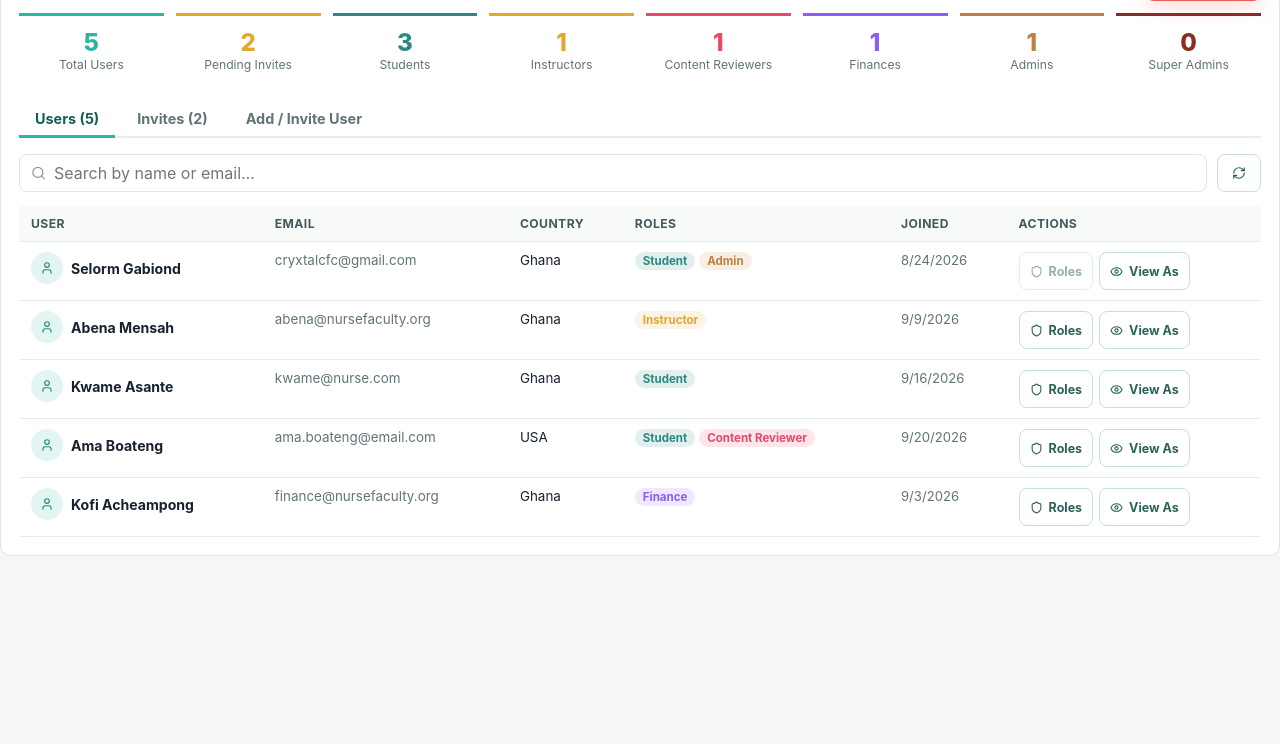
Scenario: does not offer ignored instructor status or fictional onboarding email controls
Click the button "Add / Invite User": (304, 120) [230,102,378,138]
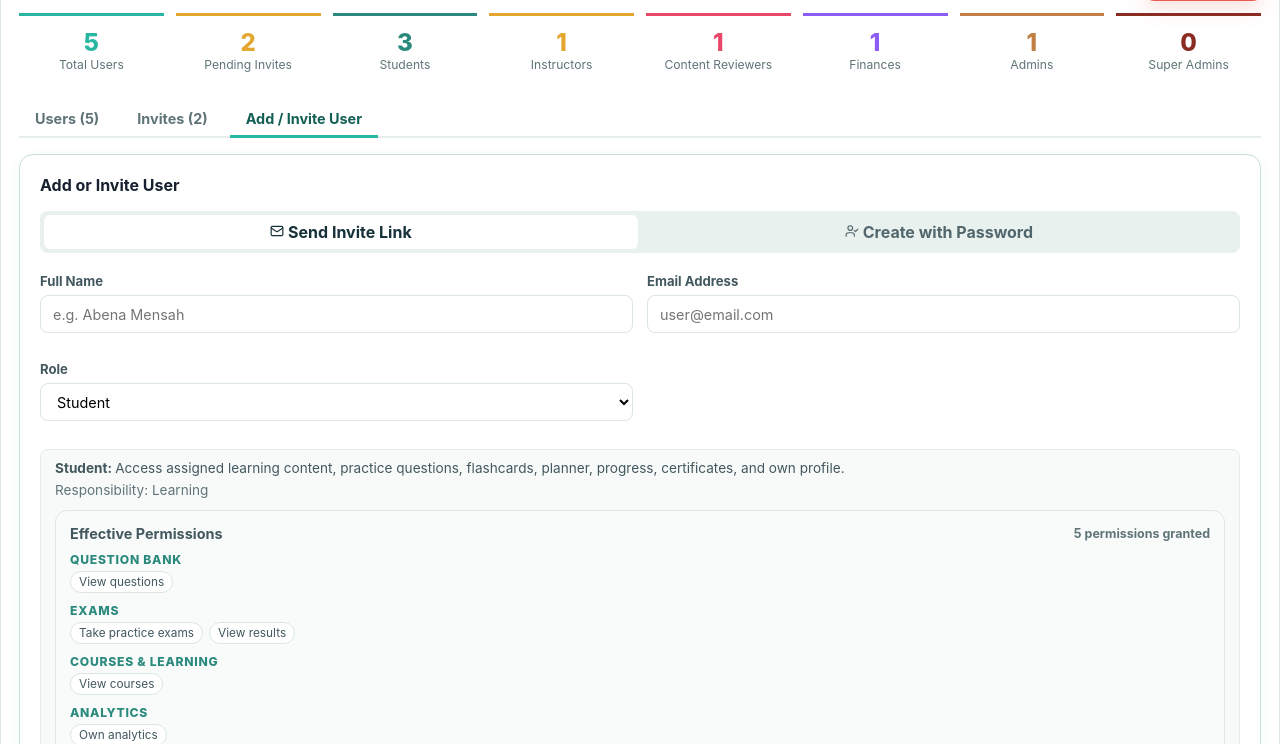
Select "Instructor" in the dropdown: (336, 402) [40,383,633,421]
(page scrolled)
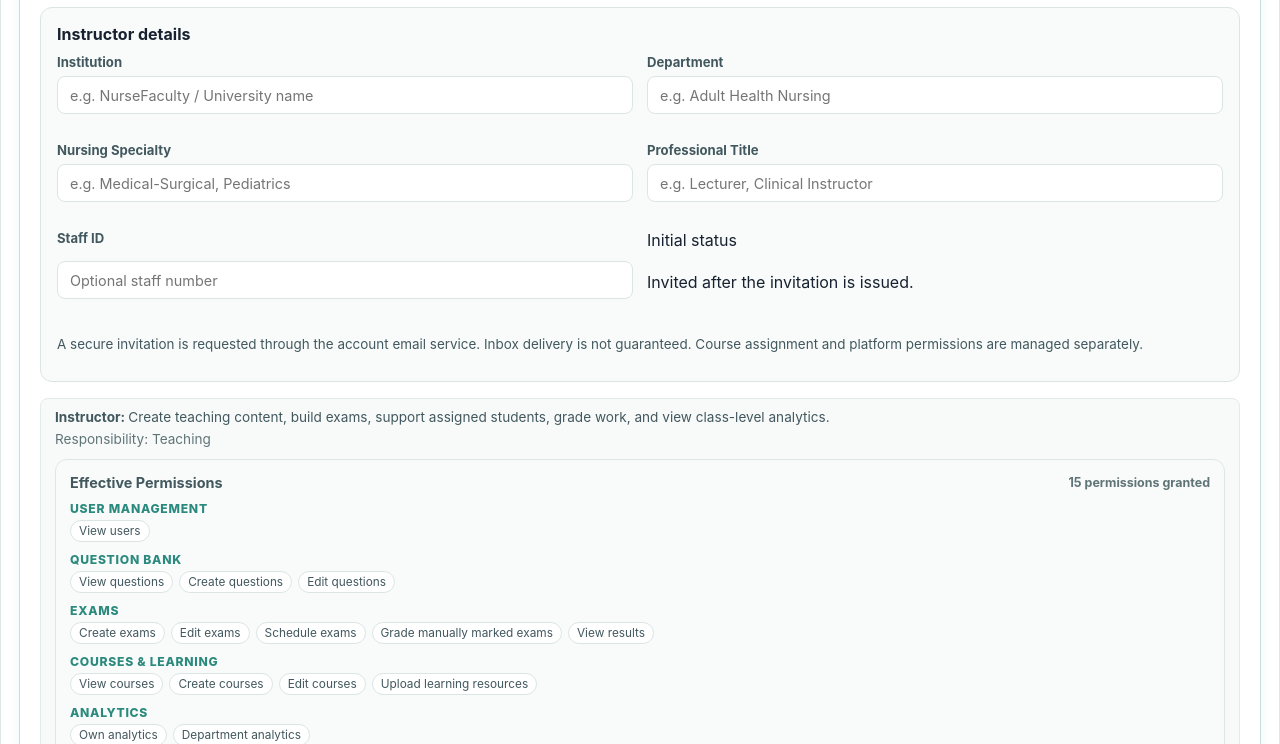
Now the text "Initial status" is shown, box [647,230,737,250]
Now the text "Inbox delivery is not guaranteed" is shown, box [57,336,692,352]
